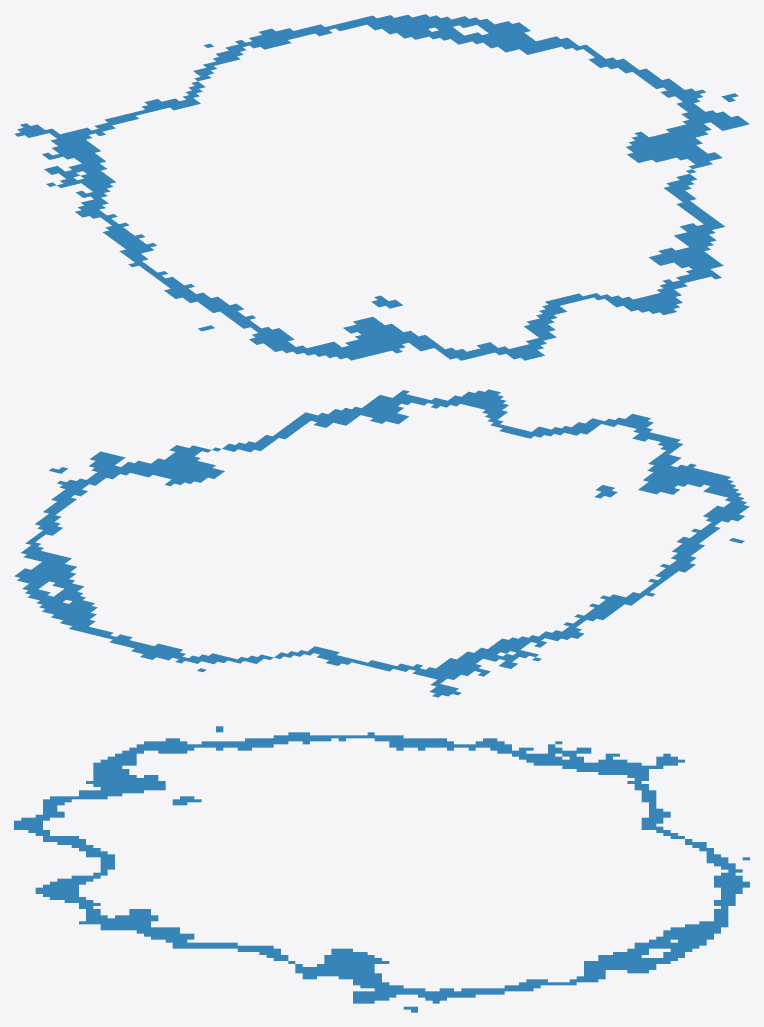
The model's file is Isl-rocky2-PlaceForWaterObjects.fbx.
3 views of the same model, one above another, from view 1: azimuth 30°, elevation 25°; view 2: azimuth 150°, elevation 25°; view 3: azimuth 270°, elevation 25° (orthographic). The views are drawn at different scales.
Visible parts, largest first — view 1: Isl-rocky2-PlaceForWaterObjects; view 2: Isl-rocky2-PlaceForWaterObjects; view 3: Isl-rocky2-PlaceForWaterObjects.
Part boxes in pixels (bbox=[...]): Isl-rocky2-PlaceForWaterObjects: bbox=[14, 14, 749, 360]; Isl-rocky2-PlaceForWaterObjects: bbox=[14, 389, 749, 697]; Isl-rocky2-PlaceForWaterObjects: bbox=[14, 726, 749, 1012].
Size of the model in its own units: 94 by 0 by 102.
